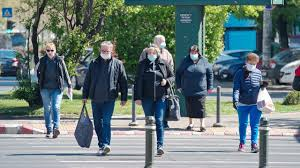no-mask: (42, 41, 60, 60)
with-mask: (98, 38, 118, 63), (241, 51, 260, 74), (145, 44, 162, 64), (187, 44, 203, 65), (151, 33, 168, 52)
